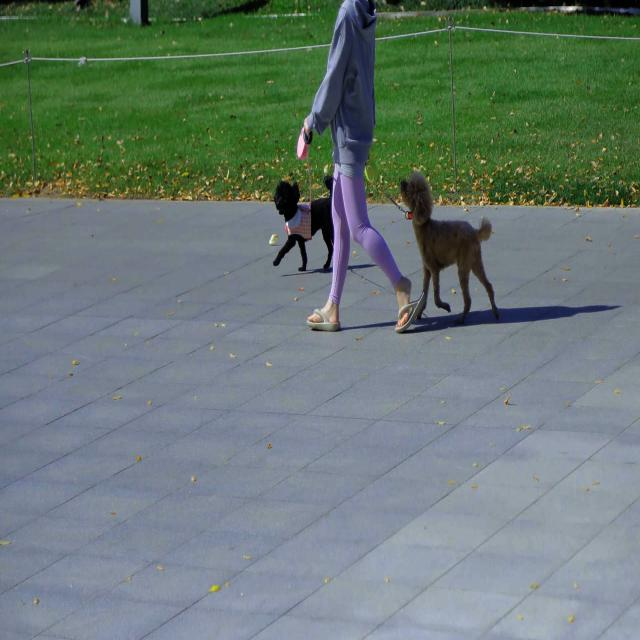Leashed_Dog: (359, 123, 503, 326), (273, 118, 345, 274)
